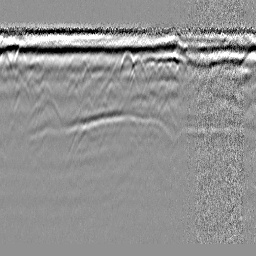cavity: (115, 49, 138, 85)
